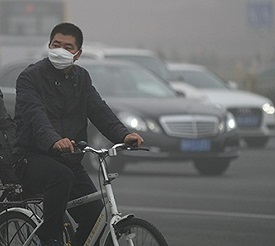person: (17, 21, 137, 246)
